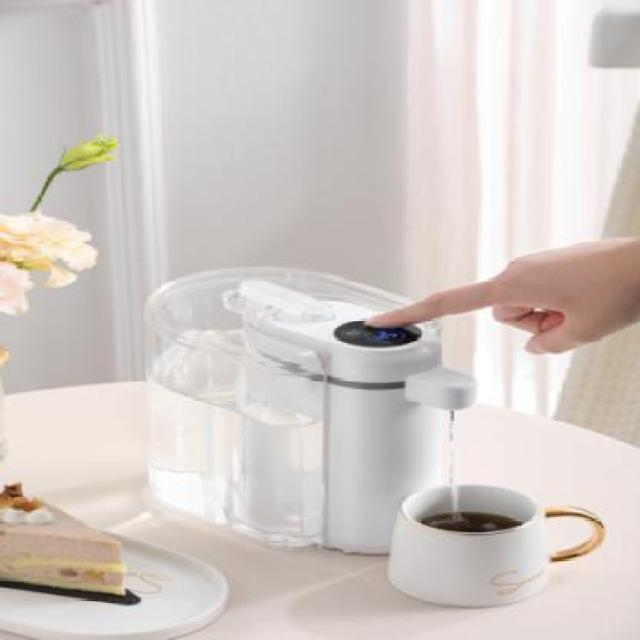cooler: (141, 265, 477, 560)
